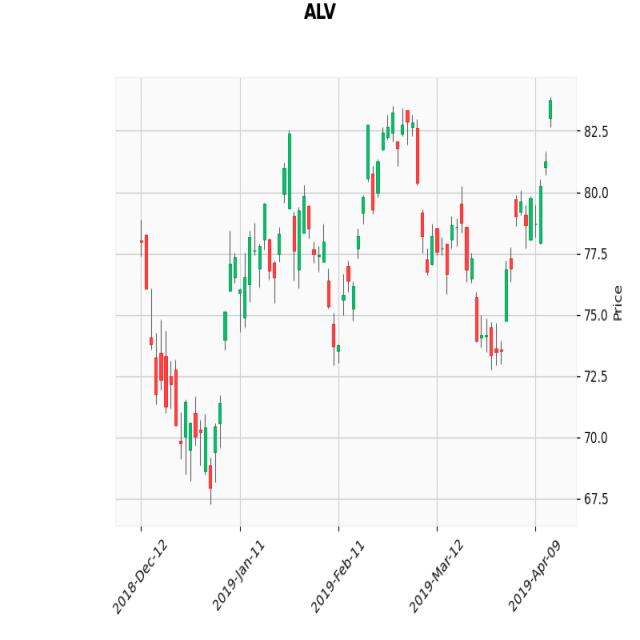Double-Top: (184, 98, 517, 501)
